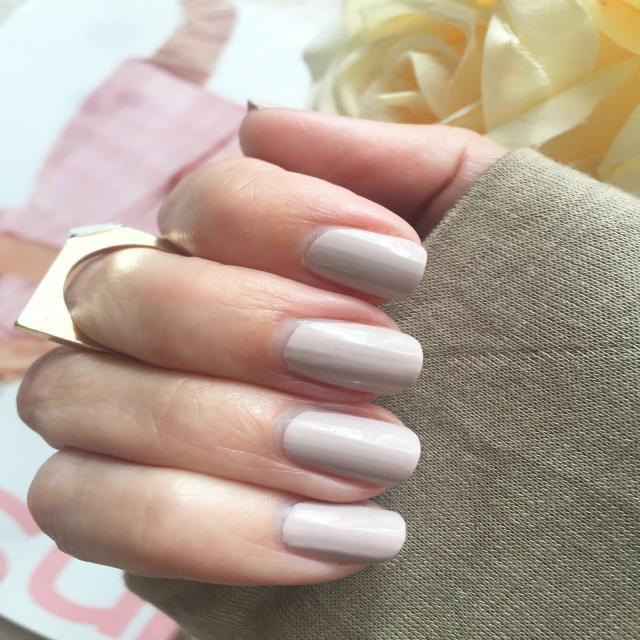Fingernail: (284, 320, 422, 396), (283, 410, 420, 485), (305, 228, 425, 301), (283, 502, 405, 562)
